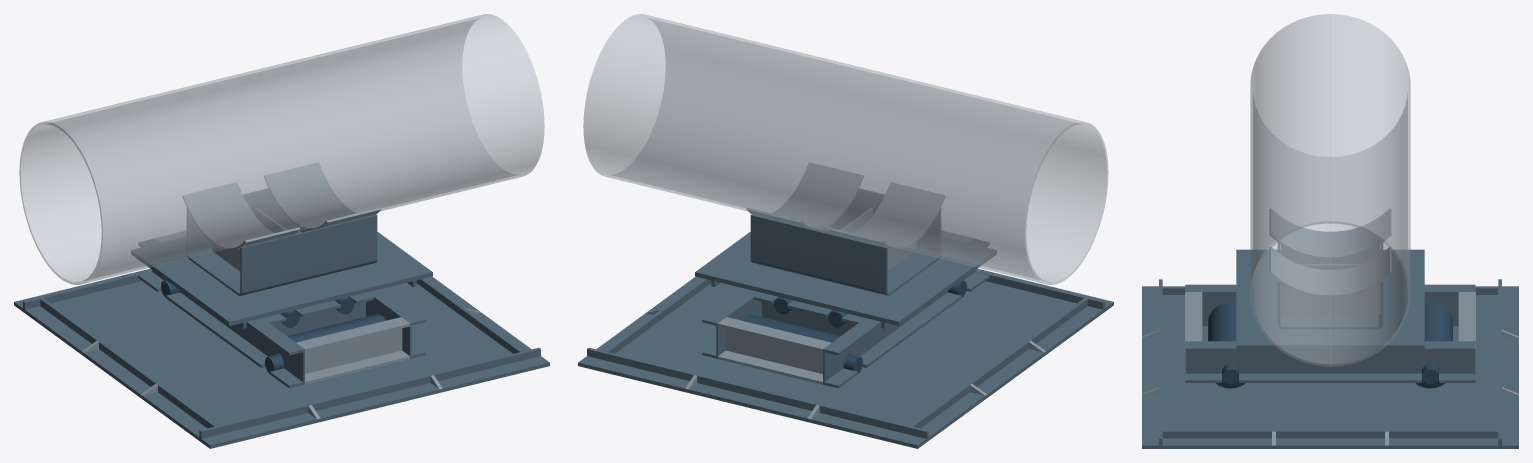
Rendered from TS-628.00.000-10-opora-dn426-hod200.glb.
The picture shows the model from 3 angles, left to right: view 1: azimuth 30°, elevation 25°; view 2: azimuth 150°, elevation 25°; view 3: azimuth 270°, elevation 25°; orthographic projection. The views are drawn at different scales.
Parts seen in each view (by area): view 1: truba, plita_niz_osnovanie_0, plita_verh_osnovanie_47, korpus_skoba_56, karetka_rebro_shveller_15, karetka_shveller_prodolnyj_13, korpus_podushka_60, korpus_podushka_61, plita_niz_polosa2_7, karetka_shveller_poperechnyj_14, plita_niz_polosa3_8, karetka_shveller_prodolnyj_16 (+2 smaller); view 2: truba, plita_niz_osnovanie_0, plita_verh_osnovanie_47, korpus_skoba_56, karetka_rebro_shveller_18, karetka_shveller_prodolnyj_13, korpus_podushka_60, korpus_podushka_61, plita_niz_polosa2_1, karetka_shveller_poperechnyj_17, plita_niz_polosa3_8, karetka_shveller_prodolnyj_16 (+2 smaller); view 3: truba, plita_niz_osnovanie_0, plita_verh_osnovanie_47, karetka_shveller_prodolnyj_16, korpus_podushka_61, korpus_podushka_60, plita_niz_polosa3_2, korpus_rebro3_58, karetka_shveller_prodolnyj_13, korpus_skoba_56, karetka_rebro_shveller_15, karetka_rebro_shveller_18 (+4 smaller).
Boxes of the visible parts, <box> form: truba: <box>19,14,544,284</box>; plita_niz_osnovanie_0: <box>14,268,549,448</box>; plita_verh_osnovanie_47: <box>131,232,432,325</box>; korpus_skoba_56: <box>187,188,377,295</box>; karetka_rebro_shveller_15: <box>296,317,410,384</box>; karetka_shveller_prodolnyj_13: <box>138,239,304,388</box>; korpus_podushka_60: <box>183,182,299,250</box>; korpus_podushka_61: <box>264,162,381,230</box>; plita_niz_polosa2_7: <box>199,347,540,438</box>; karetka_shveller_poperechnyj_14: <box>263,292,373,335</box>; plita_niz_polosa3_8: <box>40,298,217,428</box>; karetka_shveller_prodolnyj_16: <box>366,288,425,358</box>; truba: <box>583,14,1108,284</box>; plita_niz_osnovanie_0: <box>578,268,1113,448</box>; plita_verh_osnovanie_47: <box>695,232,996,325</box>; korpus_skoba_56: <box>750,188,940,295</box>; karetka_rebro_shveller_18: <box>717,317,831,384</box>; karetka_shveller_prodolnyj_13: <box>823,239,989,388</box>; korpus_podushka_60: <box>828,182,944,250</box>; korpus_podushka_61: <box>746,162,863,230</box>; plita_niz_polosa2_1: <box>587,347,928,438</box>; karetka_shveller_poperechnyj_17: <box>754,292,864,335</box>; plita_niz_polosa3_8: <box>910,298,1087,428</box>; karetka_shveller_prodolnyj_16: <box>702,288,761,358</box>; truba: <box>1250,14,1410,366</box>; plita_niz_osnovanie_0: <box>1142,286,1518,448</box>; plita_verh_osnovanie_47: <box>1236,249,1424,349</box>; karetka_shveller_prodolnyj_16: <box>1185,341,1475,382</box>; korpus_podushka_61: <box>1269,247,1391,297</box>; korpus_podushka_60: <box>1269,209,1391,259</box>; plita_niz_polosa3_2: <box>1162,430,1498,438</box>; korpus_rebro3_58: <box>1280,282,1380,316</box>; karetka_shveller_prodolnyj_13: <box>1185,284,1475,326</box>; korpus_skoba_56: <box>1277,243,1383,329</box>; karetka_rebro_shveller_15: <box>1185,292,1202,375</box>; karetka_rebro_shveller_18: <box>1458,292,1475,375</box>.
Size of the model in its own units: 1300 by 737 by 1000.
